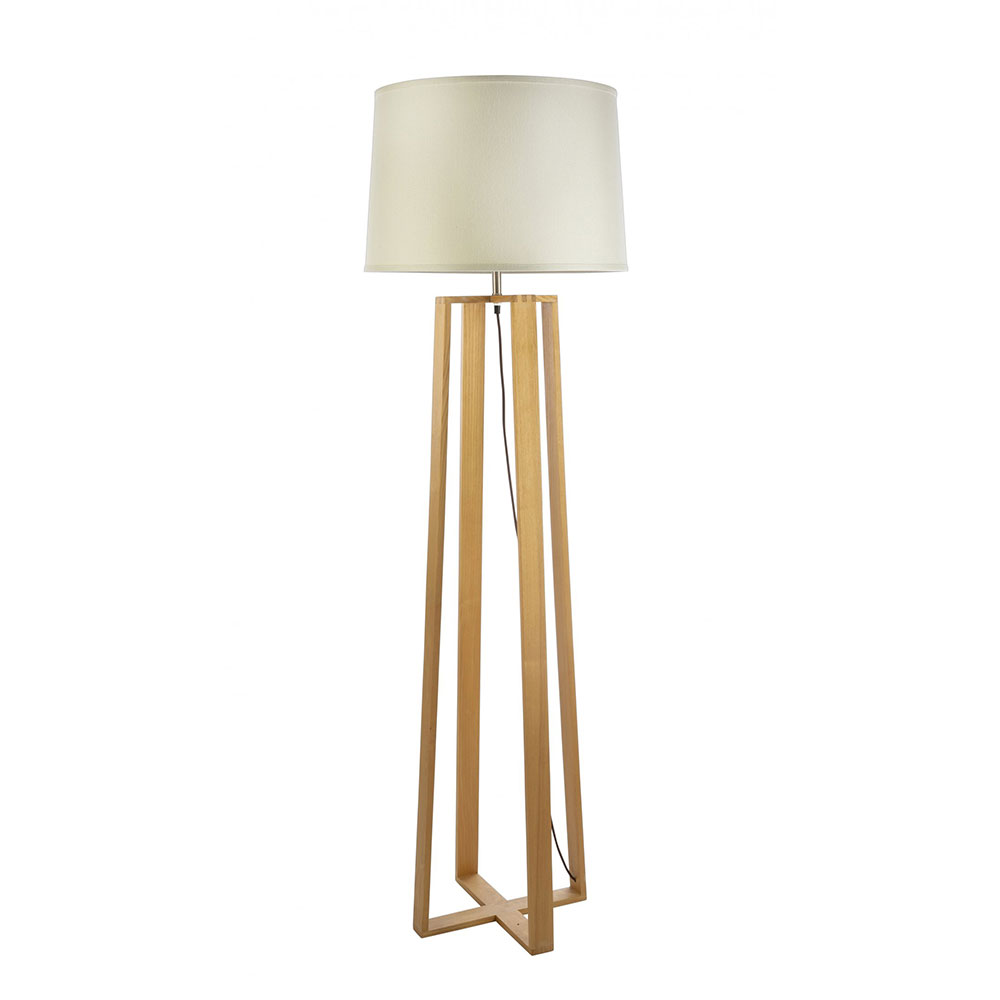lampu: (362, 74, 621, 954)
